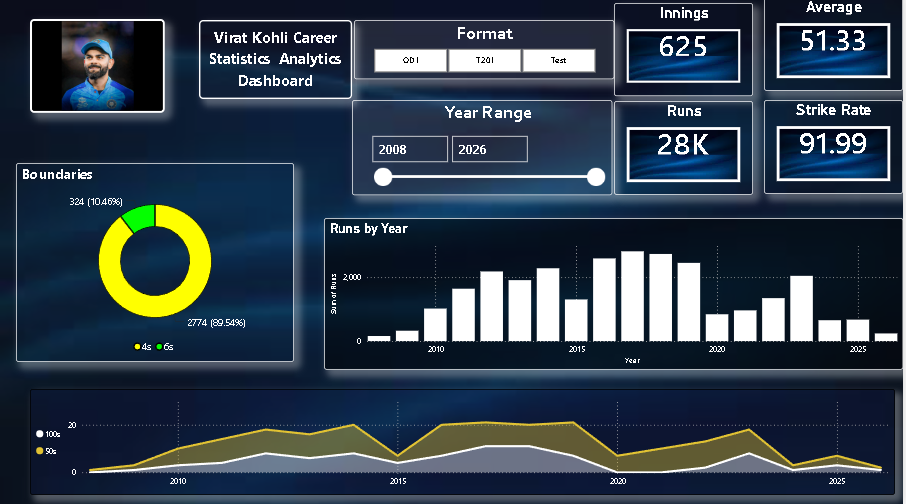

Layout of this report page (visuals, bound fields, positions):
{"tool":"powerbi","page":{"name":"Page 1","canvas":[1280,720],"ordinal":0},"visuals":[{"type":"image","box":[42.5,32.6,191.3,133.2],"z":0},{"type":"textbox","box":[281.7,33.3,216.7,111.7],"z":1000},{"type":"cardVisual","title":"Innings","fields":{"Data":["Sum(Sheet2.Innings)"]},"box":[870.2,9.9,197,131.8],"z":2000},{"type":"cardVisual","title":"Runs","fields":{"Data":["Sum(Sheet2.Runs)"]},"box":[870.2,148.8,197,133.2],"z":3000},{"type":"cardVisual","title":"Average","fields":{"Data":["Avg(Sheet2.Avg)"]},"box":[1082.8,1.4,197,133.2],"z":4000},{"type":"cardVisual","title":"Strike Rate","fields":{"Data":["Avg(Sheet2.SR)"]},"box":[1082.8,147.4,197,133.2],"z":5000},{"type":"slicer","title":"Format","fields":{"Values":["Sheet2.Format"]},"box":[501.7,34,368.5,83.6],"z":6000},{"type":"slicer","title":"Year Range","fields":{"Values":["Sheet2.Year"]},"box":[498.9,147.4,368.5,134.6],"z":7000},{"type":"clusteredColumnChart","title":" Runs by Year","fields":{"Y":["Sum(Sheet2.Runs)"],"Category":["Sheet2.Year"]},"box":[459.2,314.6,820.6,215.4],"z":8000},{"type":"donutChart","title":"Boundaries","fields":{"Y":["Sum(Sheet2.4s)","Sum(Sheet2.6s)"]},"box":[22.7,236.7,394,282],"z":9000},{"type":"stackedAreaChart","fields":{"Y":["Sum(Sheet2.100)","Sum(Sheet2.50)"],"Category":["Sheet2.Year"]},"box":[42.5,557,1226,150.2],"z":10000}]}

Visuals, with their boxes in screenshot pixels (x1, y1, x2, y2), scaled from the page's 1280x720 canvas onto the 906x504 screenshot:
image: [30, 23, 165, 116]
textbox: [199, 23, 353, 102]
"Innings" cardVisual: [616, 7, 755, 99]
"Runs" cardVisual: [616, 104, 755, 197]
"Average" cardVisual: [766, 1, 905, 94]
"Strike Rate" cardVisual: [766, 103, 905, 196]
"Format" slicer: [355, 24, 616, 82]
"Year Range" slicer: [353, 103, 614, 197]
" Runs by Year" clusteredColumnChart: [325, 220, 905, 371]
"Boundaries" donutChart: [16, 166, 295, 363]
stackedAreaChart - Sum(Sheet2.100) x Sum(Sheet2.50): [30, 390, 898, 495]
